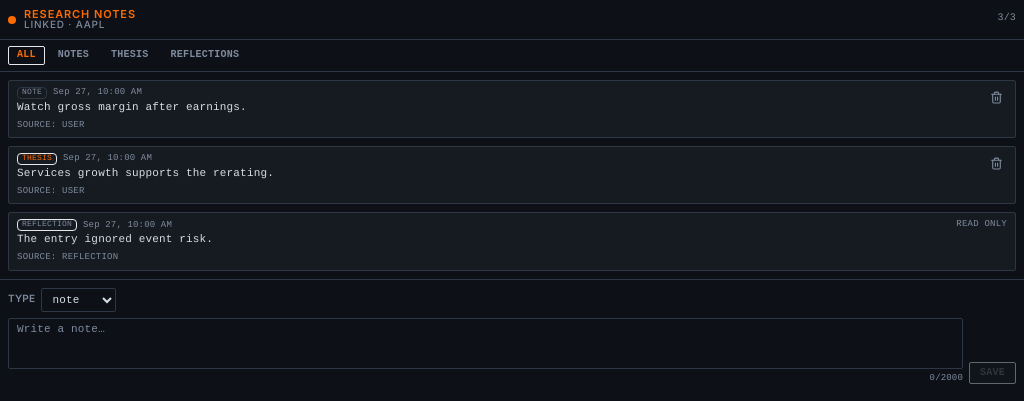
LaunchpadResearchNotesPanel › filters by kind and keeps reflections read-only
Expected: the text "Watch gross margin after earnings." is shown, [17,102,247,114]
Expected: the text "Read only" is shown, [956,219,1007,231]
What coordinates should you click on to do the following:
click the button "Thesis"
I would click on:
 (130, 55)
Its box is [102,46,158,65].
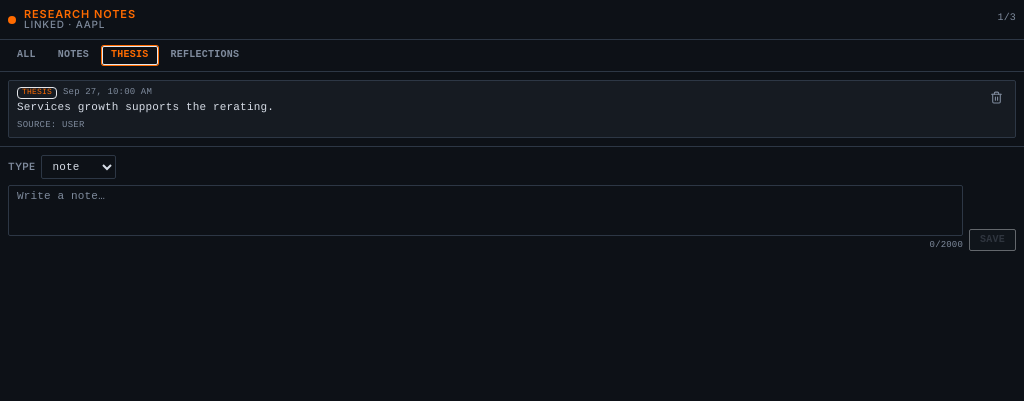
Expected: the text "Services growth supports the rerating." is shown, [17,102,274,114]
Now the text "Watch gross margin after earnings." is gone
